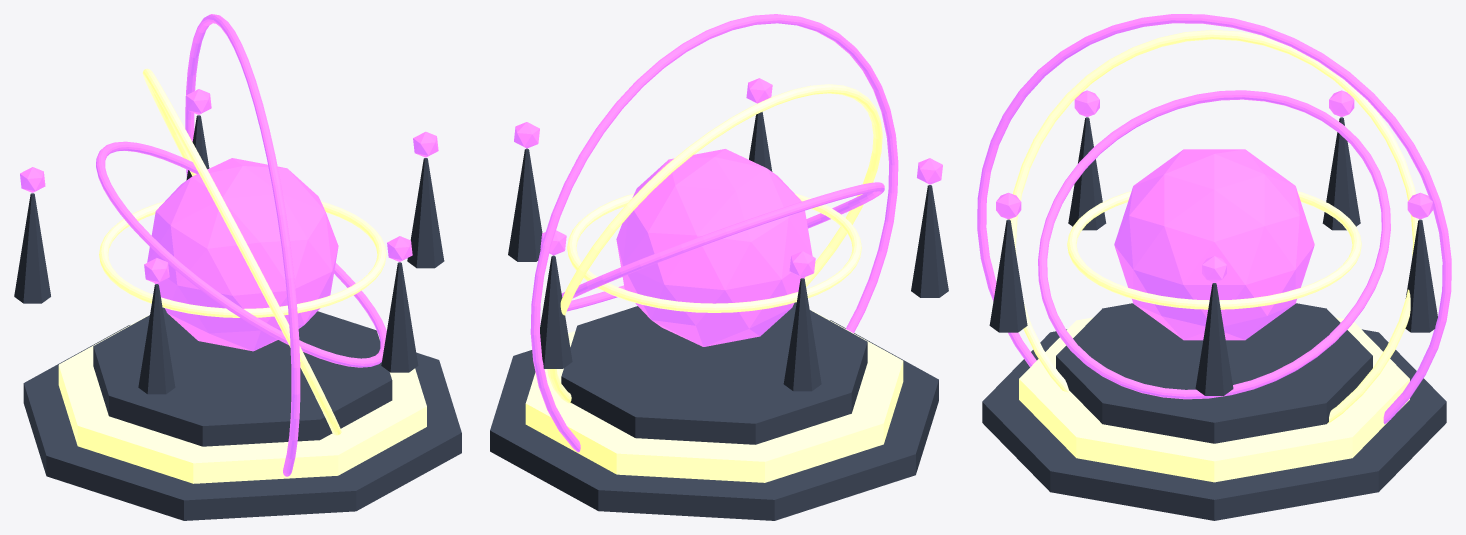
Rendered from gpu-blender-v41.glb.
3 renders of one model, left to right at view 1: azimuth 30°, elevation 25°; view 2: azimuth 150°, elevation 25°; view 3: azimuth 270°, elevation 25°, orthographic. The views are drawn at different scales.
Visible parts, largest first — view 1: Cylinder.002, SovereignCore_sovereign-agent-bridge, Cylinder, Cylinder.001, Torus.003, Torus.001, Torus.002, Torus, Cone.003, Cone.004, Cone.002, Cone (+5 smaller); view 2: Cylinder.002, SovereignCore_sovereign-agent-bridge, Cylinder, Cylinder.001, Torus.003, Torus.002, Torus, Torus.001, Cone.002, Cone.003, Cone, Cone.001 (+4 smaller); view 3: SovereignCore_sovereign-agent-bridge, Cylinder.002, Cylinder, Cylinder.001, Torus.003, Torus.001, Torus.002, Torus, Cone.004, Cone, Cone.001, Cone.002 (+2 smaller).
Boxes of the visible parts, bbox=[...] form: Cylinder.002: bbox=[93, 307, 392, 446]; SovereignCore_sovereign-agent-bridge: bbox=[147, 158, 338, 351]; Cylinder: bbox=[23, 325, 461, 520]; Cylinder.001: bbox=[58, 315, 426, 483]; Torus.003: bbox=[185, 14, 300, 476]; Torus.001: bbox=[96, 141, 386, 367]; Torus.002: bbox=[142, 68, 341, 435]; Torus: bbox=[99, 201, 386, 317]; Cone.003: bbox=[138, 284, 175, 394]; Cone.004: bbox=[381, 262, 418, 372]; Cone.002: bbox=[14, 193, 50, 303]; Cone: bbox=[407, 158, 444, 268]; Cylinder.002: bbox=[561, 302, 867, 444]; SovereignCore_sovereign-agent-bridge: bbox=[616, 149, 812, 346]; Cylinder: bbox=[490, 320, 938, 520]; Cylinder.001: bbox=[525, 310, 903, 482]; Torus.003: bbox=[530, 14, 898, 452]; Torus.002: bbox=[547, 84, 882, 403]; Torus: bbox=[567, 193, 861, 312]; Torus.001: bbox=[561, 182, 884, 311]; Cone.002: bbox=[783, 278, 821, 391]; Cone.003: bbox=[911, 185, 948, 297]; Cone: bbox=[508, 148, 542, 261]; Cone.001: bbox=[540, 255, 572, 368]; SovereignCore_sovereign-agent-bridge: bbox=[1114, 149, 1314, 340]; Cylinder.002: bbox=[1056, 303, 1372, 443]; Cylinder: bbox=[982, 329, 1446, 520]; Cylinder.001: bbox=[1019, 317, 1409, 482]; Torus.003: bbox=[977, 14, 1451, 424]; Torus.001: bbox=[1038, 90, 1390, 399]; Torus.002: bbox=[1008, 30, 1420, 422]; Torus: bbox=[1067, 191, 1361, 309]; Cone.004: bbox=[989, 219, 1027, 332]; Cone: bbox=[1195, 283, 1233, 395]; Cone.001: bbox=[1405, 219, 1437, 332]; Cone.002: bbox=[1322, 117, 1360, 230].
Size of the model in its own units: 4.41 by 4.7 by 4.49.
